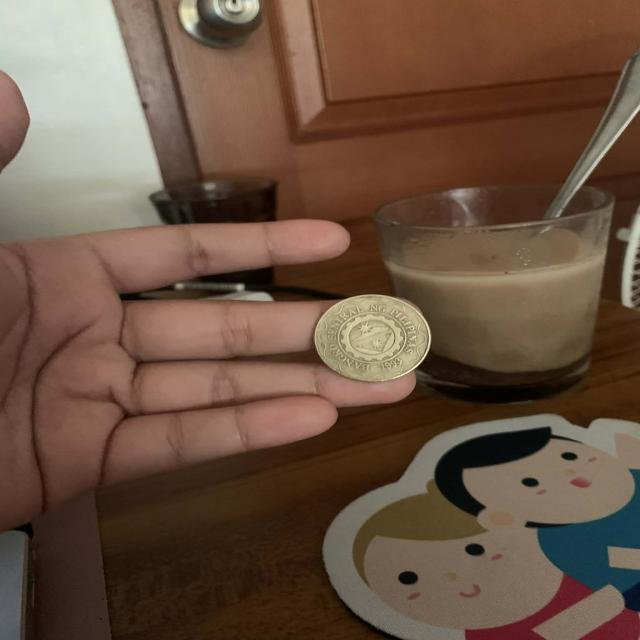5 peso-old: (306, 288, 439, 386)
